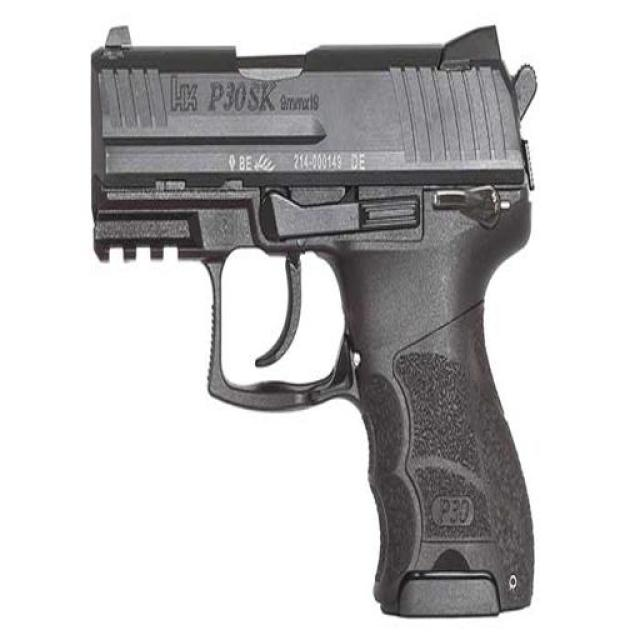pistol: (81, 19, 541, 618)
